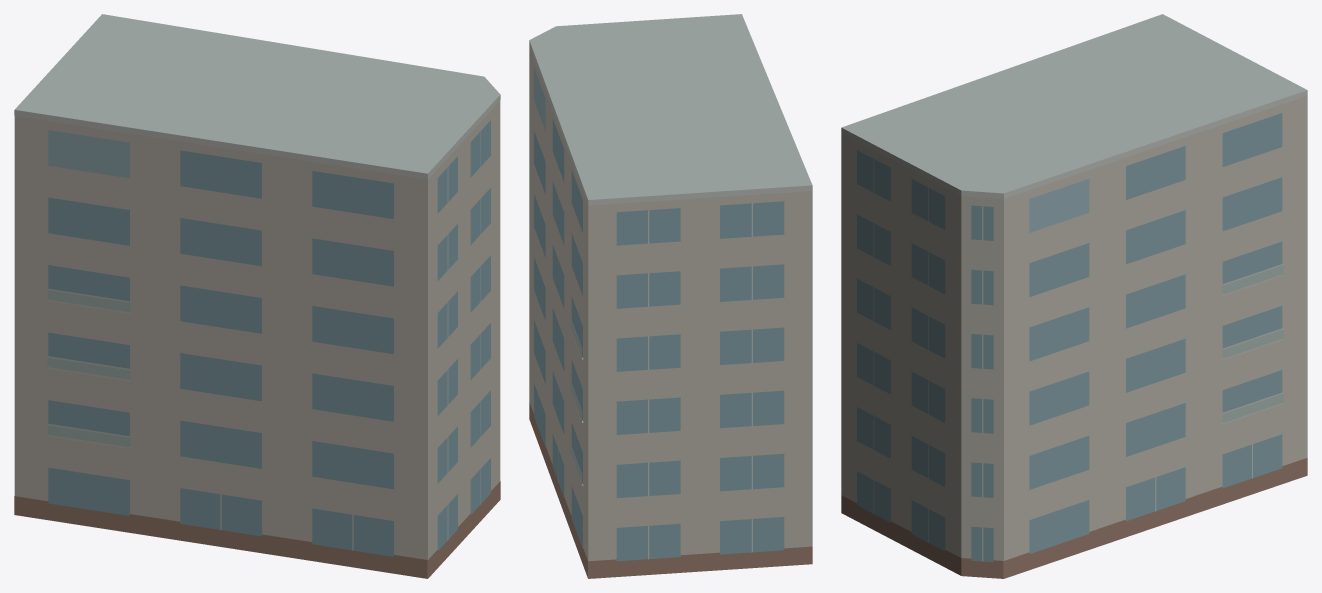
Rendered from survey-upis-32725035.glb.
3 views of the same model, side by side, from view 1: azimuth 30°, elevation 25°; view 2: azimuth 150°, elevation 25°; view 3: azimuth 270°, elevation 25° (orthographic). The views are drawn at different scales.
Visible parts, largest first — view 1: survey-upis-32725035.tmp; view 2: survey-upis-32725035.tmp; view 3: survey-upis-32725035.tmp.
Boxes of the visible parts, bbox=[...] form: survey-upis-32725035.tmp: bbox=[14, 14, 500, 578]; survey-upis-32725035.tmp: bbox=[529, 14, 812, 578]; survey-upis-32725035.tmp: bbox=[841, 14, 1307, 578].
Size of the model in its own units: 16.78 by 16.8 by 18.43.
